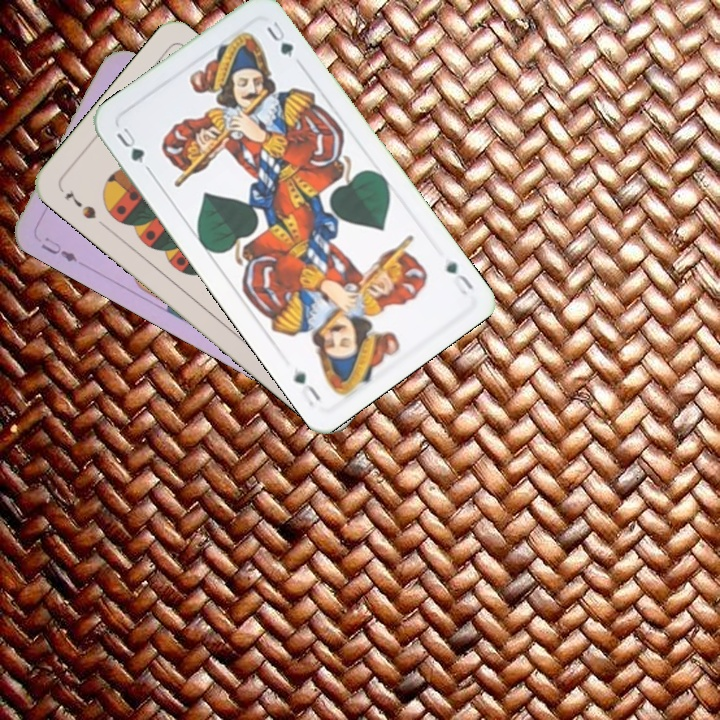EU: (36, 232, 80, 265)
GU: (112, 123, 147, 166), (441, 256, 476, 298)
S7: (61, 185, 99, 222)
